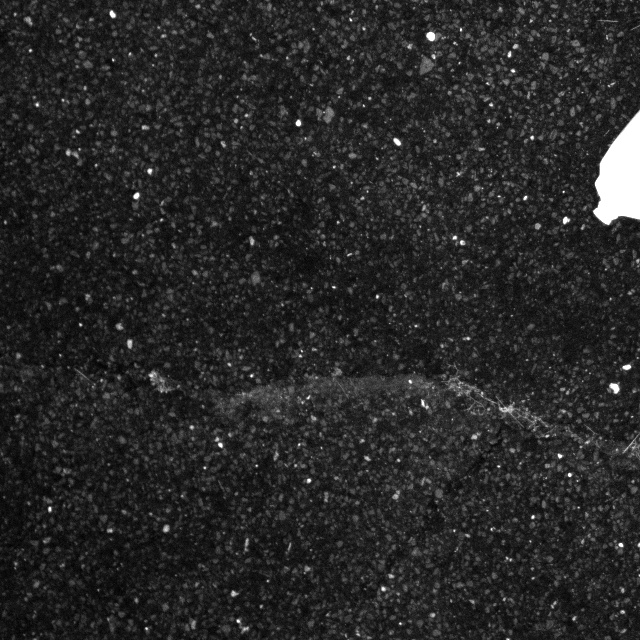can: (567, 72, 640, 247)
